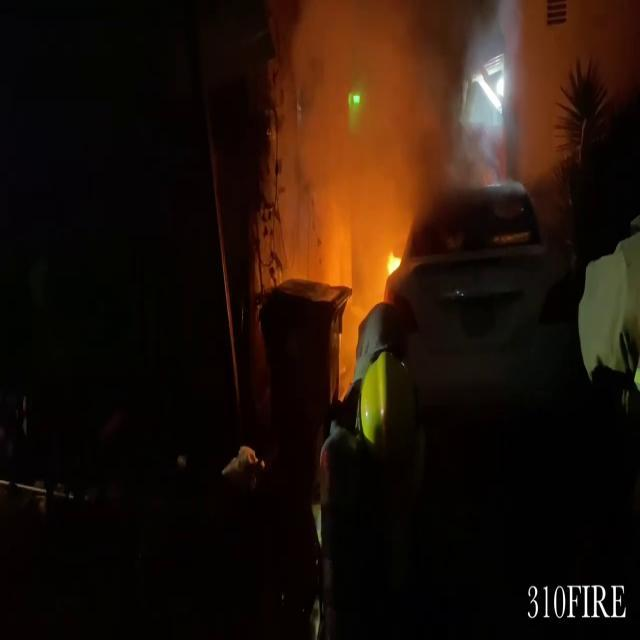Smoke: (260, 0, 482, 278)
